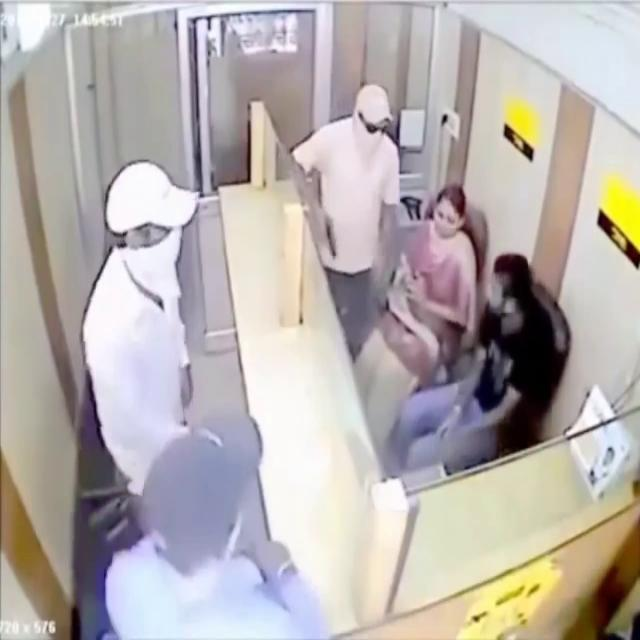weapon: (322, 212, 340, 264)
